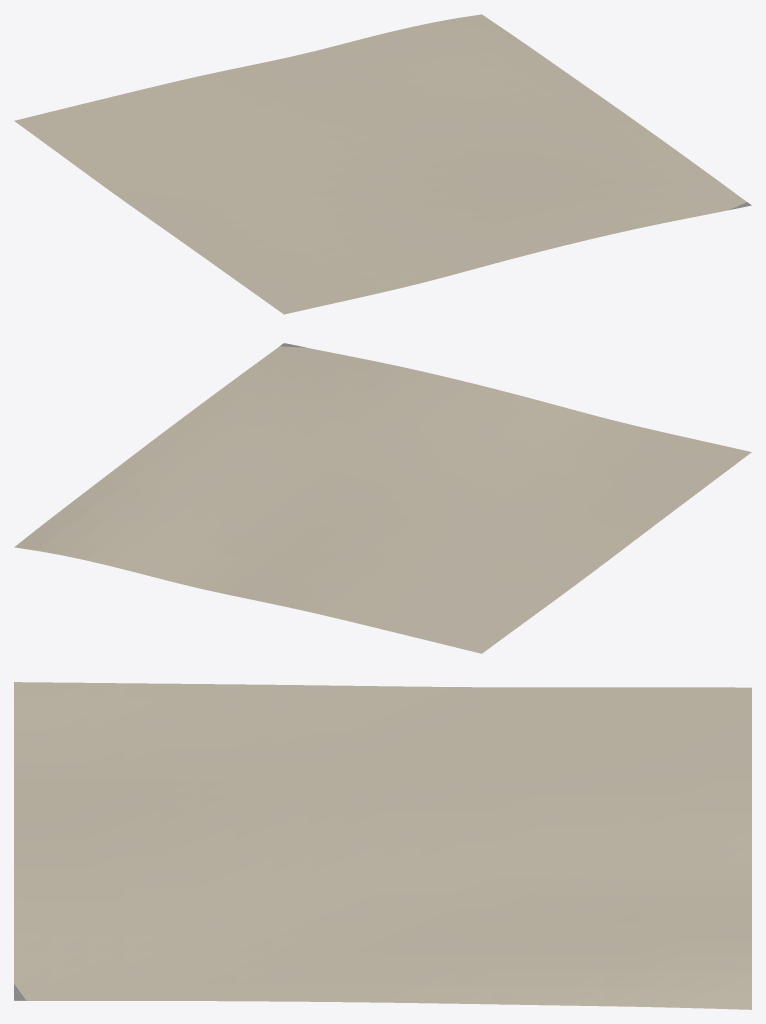
File: bolak_-28_2.glb
3 views of the same model, one above another, from view 1: azimuth 30°, elevation 25°; view 2: azimuth 150°, elevation 25°; view 3: azimuth 270°, elevation 25° (orthographic). The views are drawn at different scales.
Visible parts, largest first — view 1: Yer_Tuproq-col; view 2: Yer_Tuproq-col; view 3: Yer_Tuproq-col.
Part boxes in pixels (box(x1,y1,x2,y2)): Yer_Tuproq-col: box(14, 14, 751, 314); Yer_Tuproq-col: box(14, 346, 751, 653); Yer_Tuproq-col: box(14, 682, 751, 1009).
Size of what is drawn, in the model's own units: 400 by 9.99 by 400.
